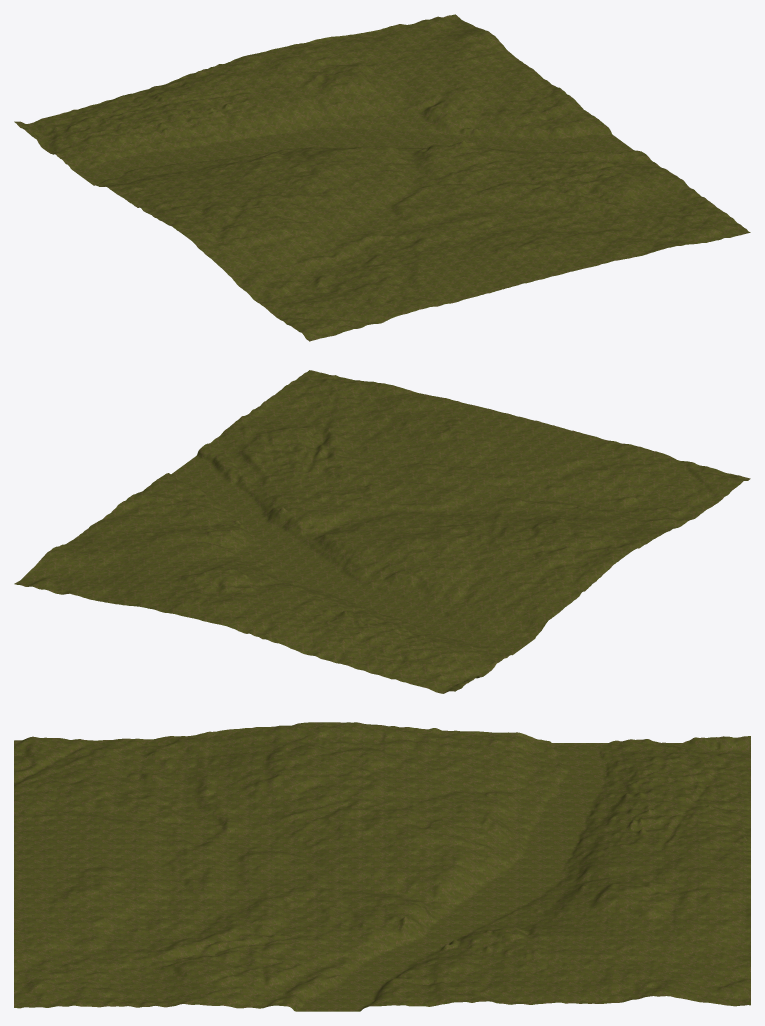
File: tiled_map3.glb
3 views of the same model, one above another, from view 1: azimuth 30°, elevation 25°; view 2: azimuth 150°, elevation 25°; view 3: azimuth 270°, elevation 25° (orthographic). The views are drawn at different scales.
Visible parts, largest first — view 1: EXPORT_GOOGLE_SAT_WM.002; view 2: EXPORT_GOOGLE_SAT_WM.002; view 3: EXPORT_GOOGLE_SAT_WM.002.
Part boxes in pixels (left/top/right/bottom): EXPORT_GOOGLE_SAT_WM.002: left=14, top=14, right=750, bottom=341; EXPORT_GOOGLE_SAT_WM.002: left=14, top=370, right=750, bottom=693; EXPORT_GOOGLE_SAT_WM.002: left=14, top=722, right=750, bottom=1011.
Size of the model in its own units: 84.24 by 3.37 by 97.64.
1 material, 1 textured.
